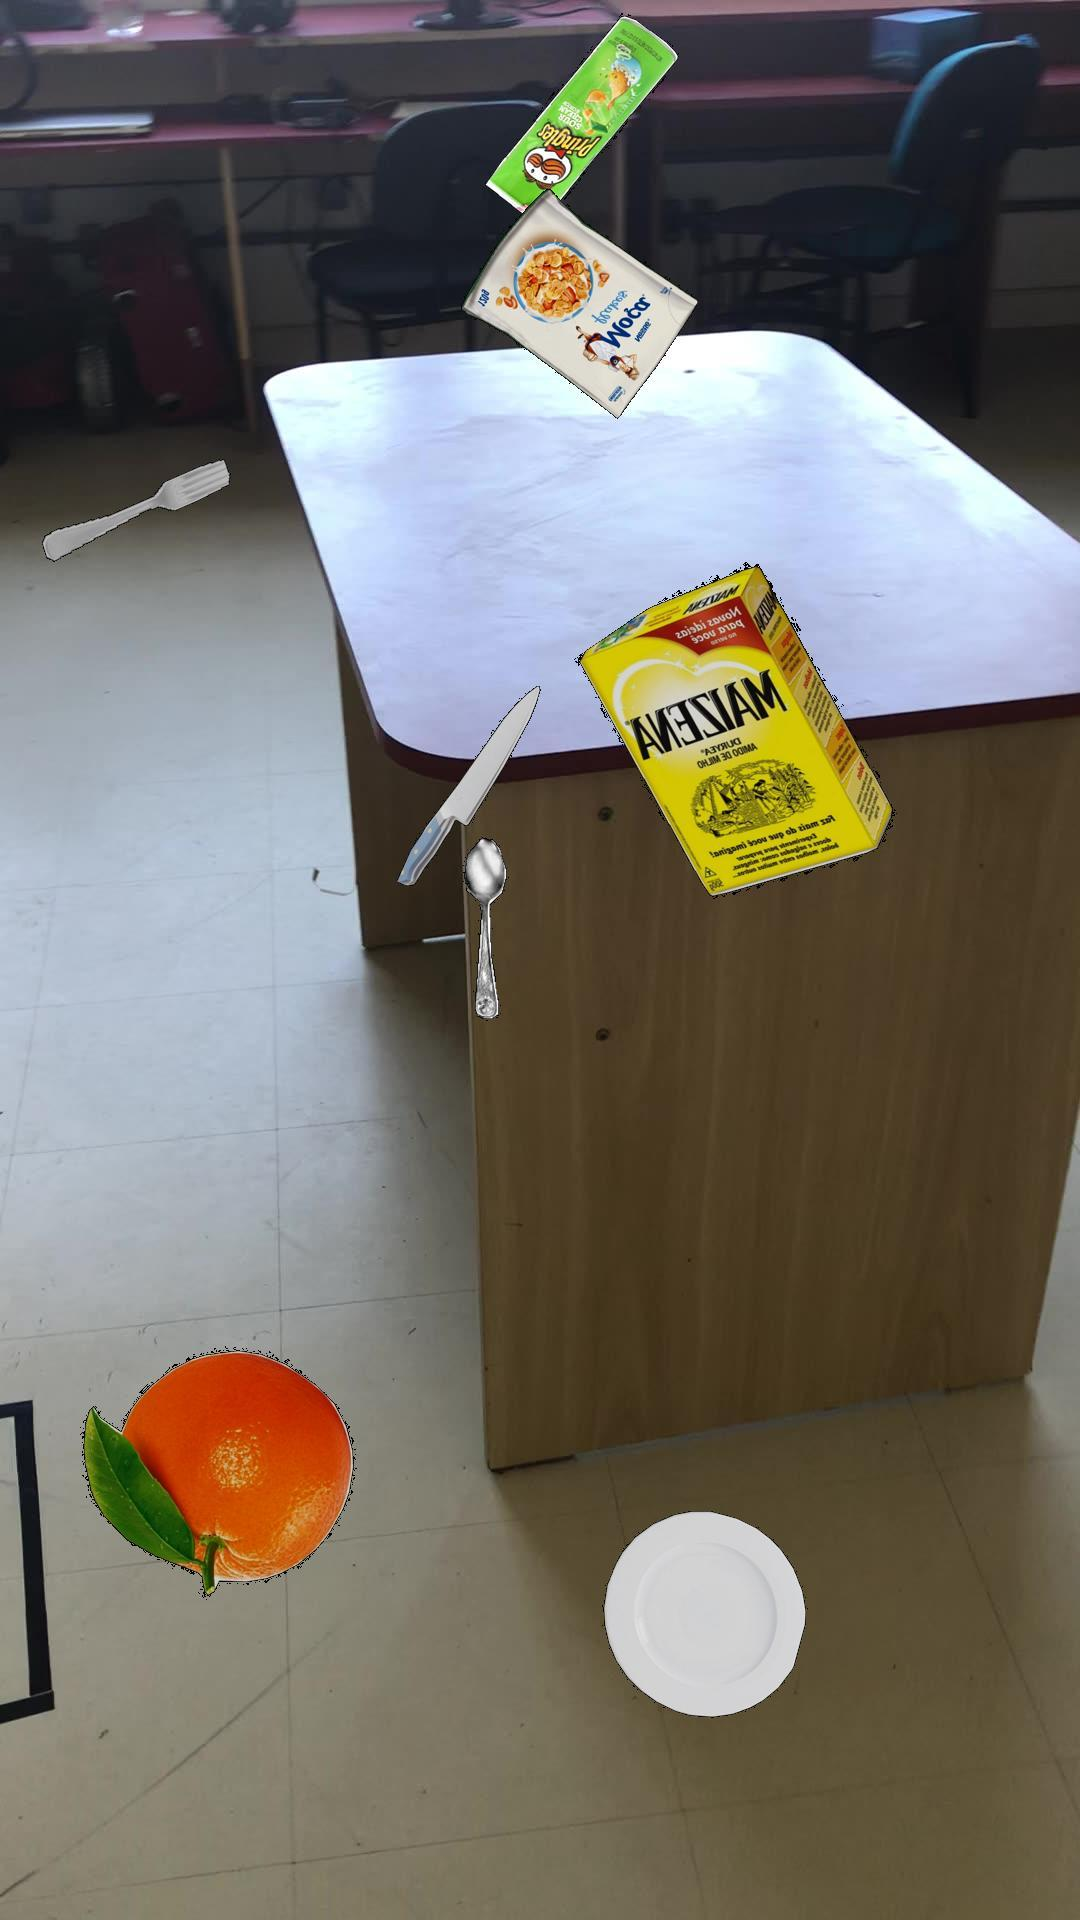corn flakes: (459, 187, 696, 418)
fork: (41, 458, 229, 560)
knife: (396, 684, 539, 885)
orange: (80, 1349, 353, 1596)
plate: (601, 1510, 804, 1717)
pringles: (484, 15, 678, 211)
spoon: (462, 836, 505, 1018)
